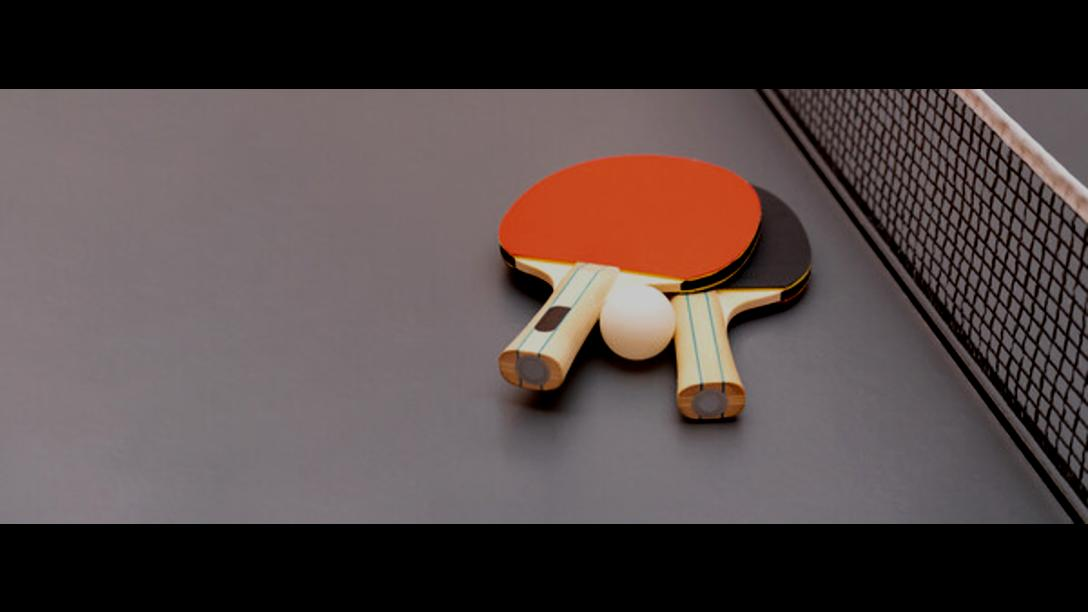Table-Tennis-Ball: (598, 284, 674, 358)
